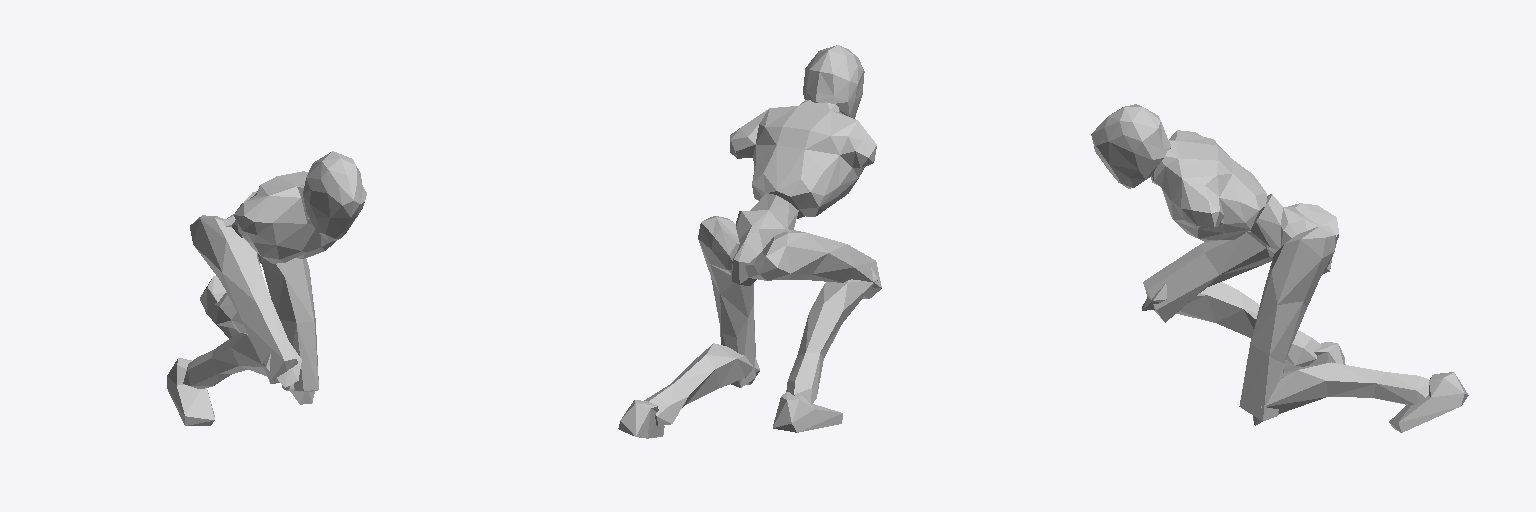
File: filth15.obj
The picture shows the model from 3 angles: view 1: azimuth 30°, elevation 25°; view 2: azimuth 150°, elevation 25°; view 3: azimuth 270°, elevation 25°; orthographic projection.
Visible parts, largest first — view 1: Melee_Husk; view 2: Melee_Husk; view 3: Melee_Husk.
Part boxes in pixels (bbox=[...]): Melee_Husk: bbox=[167, 151, 366, 425]; Melee_Husk: bbox=[618, 45, 881, 438]; Melee_Husk: bbox=[1091, 104, 1468, 432].
Bounding box in the file's own units: 22.19 × 44.57 × 49.72.